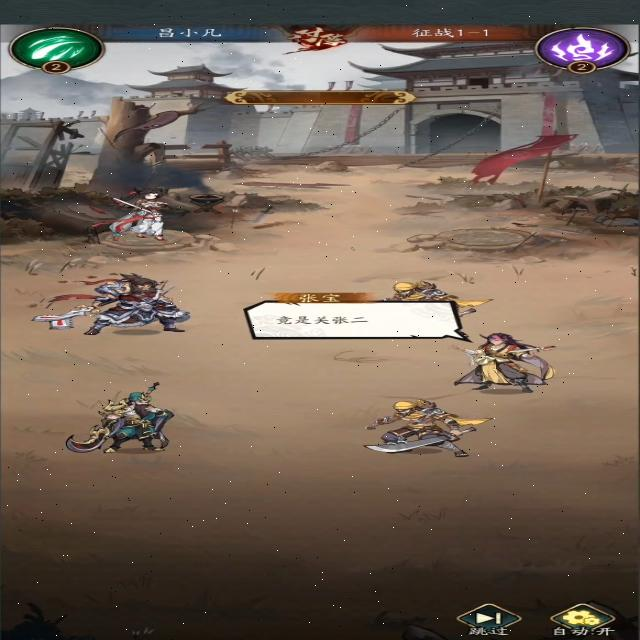system-auto: (545, 602, 620, 640)
system-skip: (457, 602, 524, 638)
